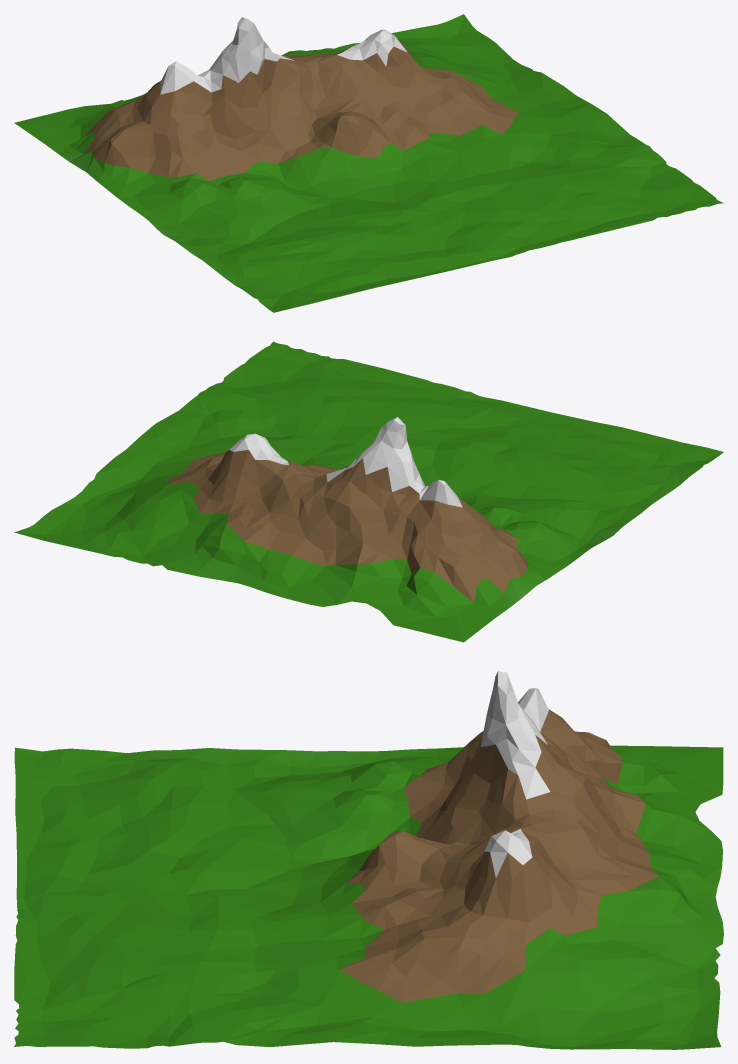
Rendered from terrain.glb.
3 renders of one model, top to bottom at view 1: azimuth 30°, elevation 25°; view 2: azimuth 150°, elevation 25°; view 3: azimuth 270°, elevation 25°, orthographic. The views are drawn at different scales.
Parts seen in each view (by area): view 1: terrain; view 2: terrain; view 3: terrain.
Boxes of the visible parts, left/top/right/bottom form: terrain: left=14, top=14, right=723, bottom=312; terrain: left=14, top=341, right=723, bottom=642; terrain: left=14, top=671, right=723, bottom=1049.
Bounding box in the file's own units: 40.08 × 11.57 × 40.05.
